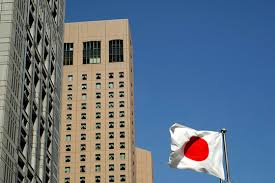Japanese Flag: (166, 122, 228, 182)
